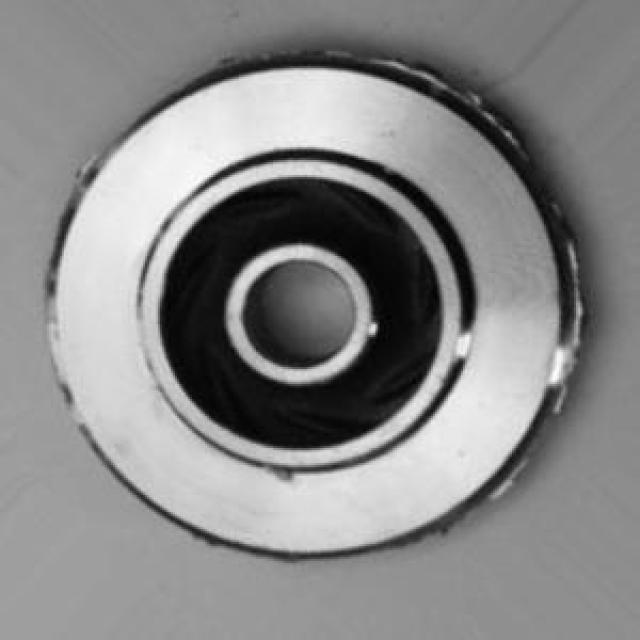Defect: (388, 50, 558, 145)
